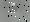person: (10, 5, 18, 16)
